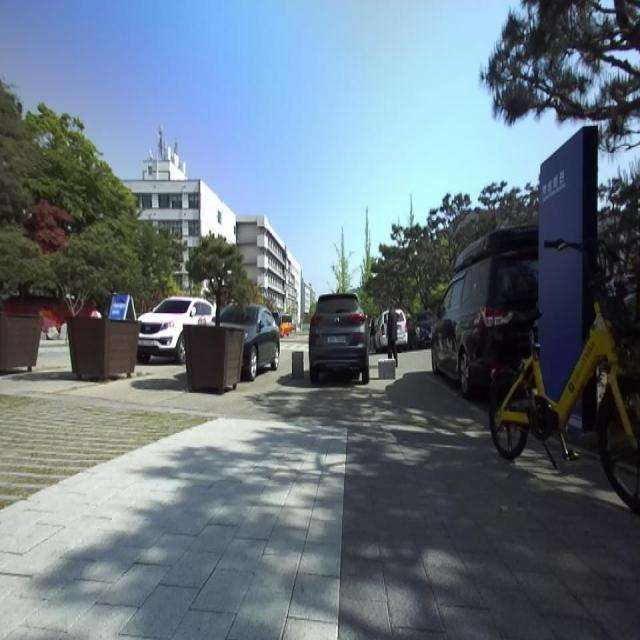sidewalk: (0, 418, 348, 639), (339, 427, 640, 639)
